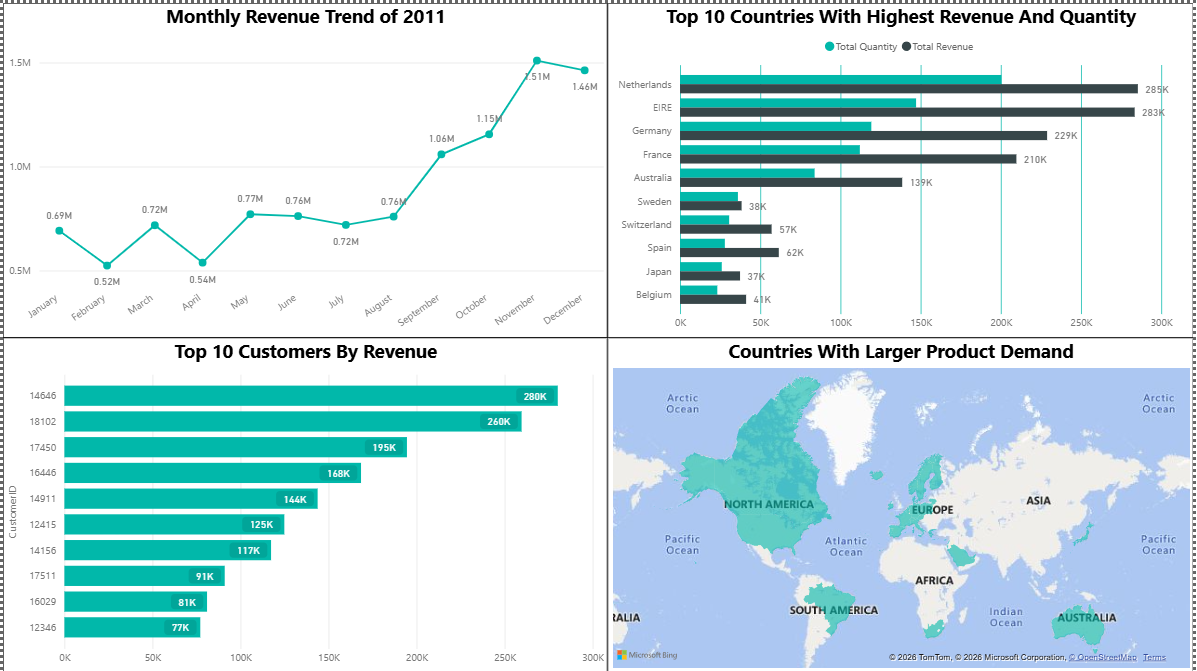

What the dashboard file says about the page in this screenshot:
{"tool":"powerbi","page":{"name":"Page 1","canvas":[1280,720],"ordinal":0},"visuals":[{"type":"lineChart","title":"Monthly Revenue Trend of 2011","fields":{"Y":["Online Retail.Total_Revenue"],"Category":["Online Retail.InvoiceDate.Variation.Date Hierarchy.Year","Online Retail.InvoiceDate.Variation.Date Hierarchy.Quarter","Online Retail.InvoiceDate.Variation.Date Hierarchy.Month","Online Retail.InvoiceDate.Variation.Date Hierarchy.Day"]},"box":[0,0,650,360],"z":0},{"type":"clusteredBarChart","title":"Top 10 Countries With Highest Revenue And Quantity","fields":{"Category":["Online Retail.Country"],"Y":["Sum(Online Retail.Quantity)","Online Retail.Total_Revenue"]},"box":[650,0,630,360],"z":1},{"type":"clusteredBarChart","title":"Top 10 Customers By Revenue","fields":{"Category":["Online Retail.CustomerID"],"Y":["Online Retail.Total_Revenue"]},"box":[0,360,650,360],"z":2},{"type":"filledMap","title":"Countries With Larger Product Demand ","fields":{"Category":["Online Retail.Country"]},"box":[650,360,630,360],"z":3}]}

Visuals, with their boxes in screenshot pixels (x1, y1, x2, y2), scaled from the page's 1280x720 canvas onto the 1197x671 screenshot:
"Monthly Revenue Trend of 2011" lineChart: 0,0,608,336
"Top 10 Countries With Highest Revenue And Quantity" clusteredBarChart: 608,0,1196,336
"Top 10 Customers By Revenue" clusteredBarChart: 0,336,608,670
"Countries With Larger Product Demand " filledMap: 608,336,1196,670
